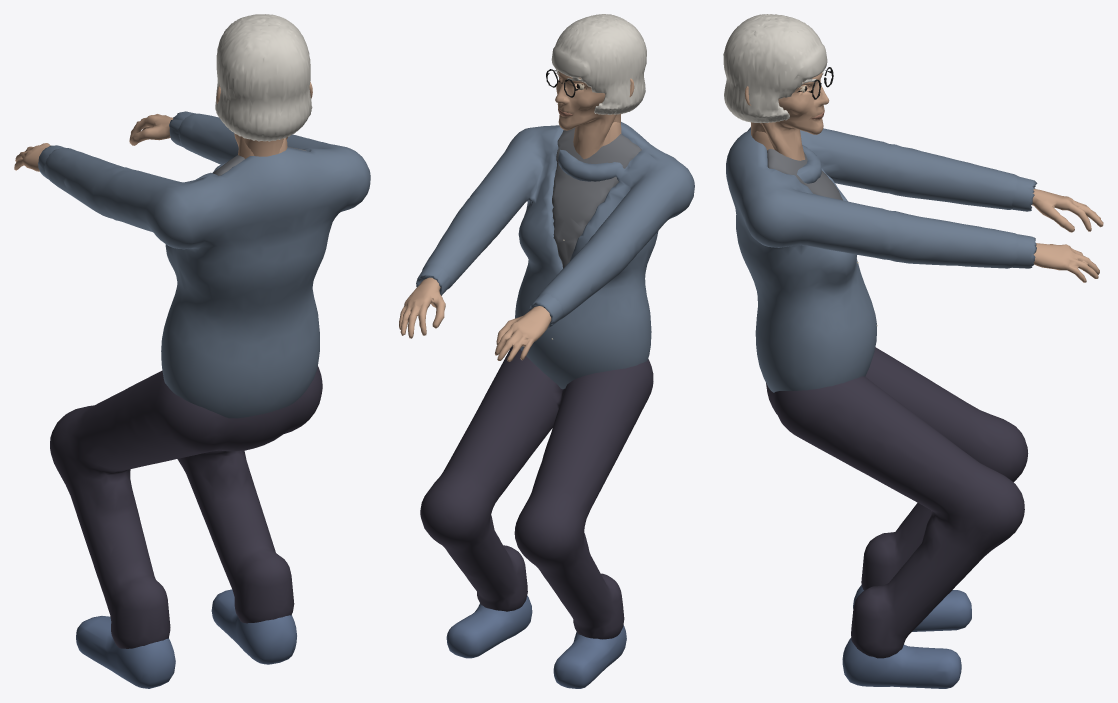
The model's file is slippers_b.glb.
The picture shows the model from 3 angles, left to right: view 1: azimuth 30°, elevation 25°; view 2: azimuth 150°, elevation 25°; view 3: azimuth 270°, elevation 25°; orthographic projection. The views are drawn at different scales.
Parts seen in each view (by area): view 1: slippers_b_body, slippers_b_head, slippers_b_hands; view 2: slippers_b_body, slippers_b_head, slippers_b_hands; view 3: slippers_b_body, slippers_b_head, slippers_b_hands.
Boxes of the visible parts, <box> form: slippers_b_body: <box>44,113,370,688</box>; slippers_b_head: <box>215,14,312,156</box>; slippers_b_hands: <box>14,111,195,179</box>; slippers_b_body: <box>420,122,694,688</box>; slippers_b_head: <box>546,14,646,159</box>; slippers_b_hands: <box>399,264,563,361</box>; slippers_b_body: <box>726,127,1028,688</box>; slippers_b_head: <box>723,14,833,160</box>; slippers_b_hands: <box>1011,176,1103,282</box>.
Bounding box in the file's own units: 0.4273 × 1.34 × 0.724.
